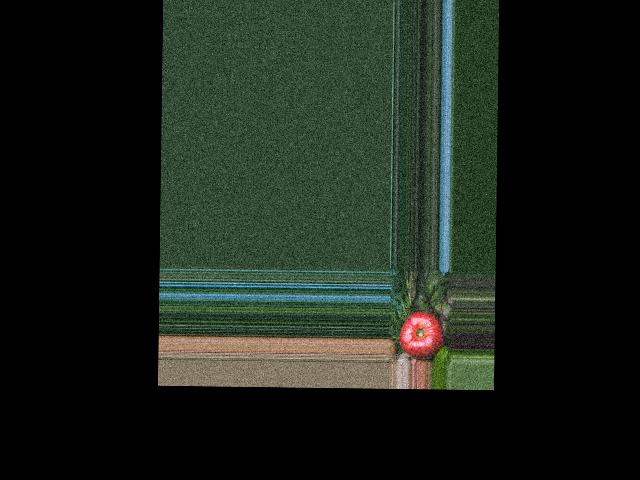tomato: (399, 311, 445, 360)
